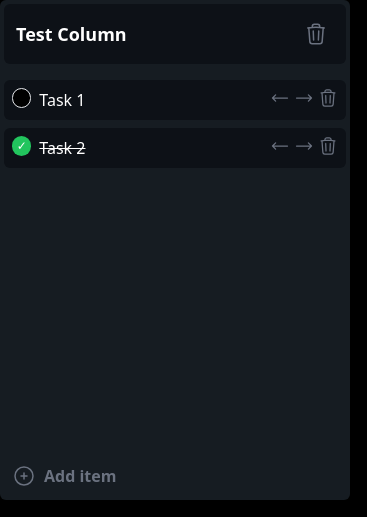
Test: ColumnContainer › when editing the column title › renders the edit column when clicked in the title
Click the text "Test Column". click: {"x": 71, "y": 34}
box: x1=16 y1=22 x2=127 y2=46
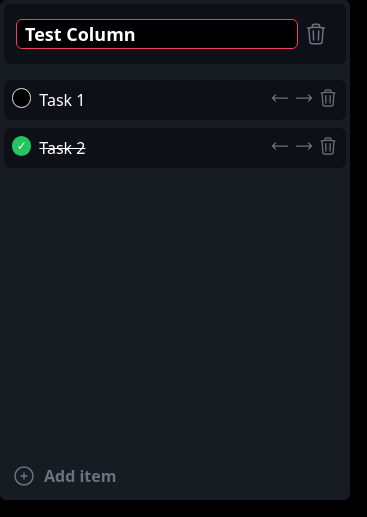
Now the field showing "Test Column" is shown, box x1=16 y1=19 x2=298 y2=49
